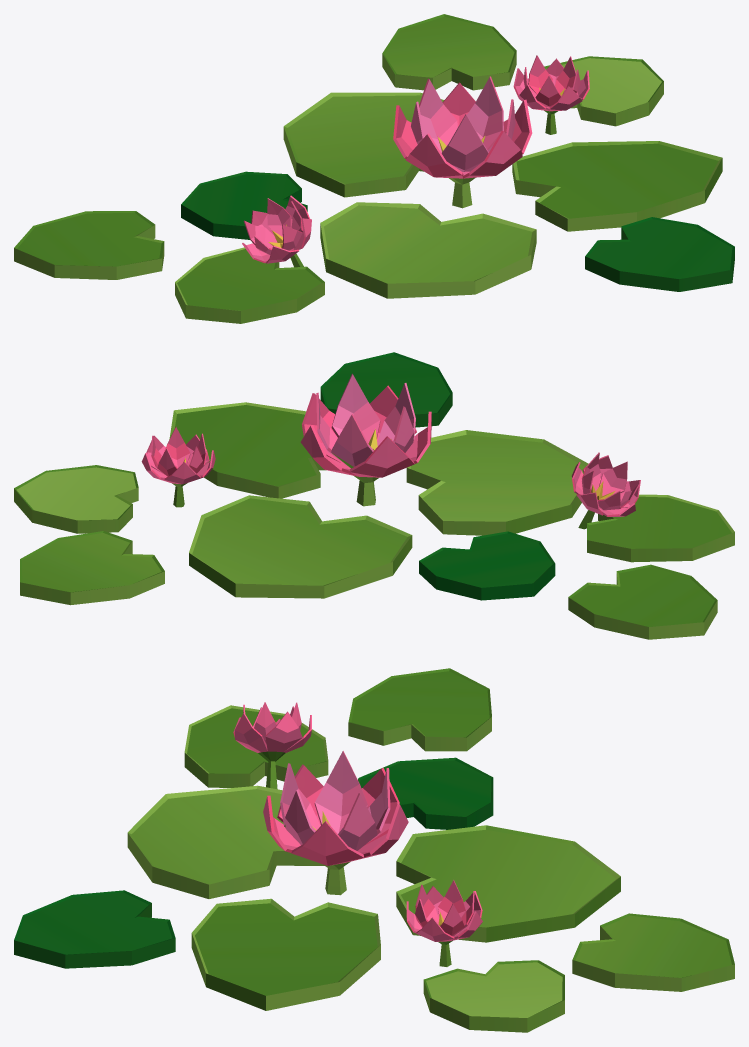
The model's file is liriosR.obj.
3 views of the same model, one above another, from view 1: azimuth 30°, elevation 25°; view 2: azimuth 150°, elevation 25°; view 3: azimuth 270°, elevation 25° (orthographic). The views are drawn at different scales.
Parts seen in each view (by area): view 1: polySurface15; view 2: polySurface15; view 3: polySurface15.
Part boxes in pixels (<box>): polySurface15: <box>14,14,734,323</box>; polySurface15: <box>14,352,734,639</box>; polySurface15: <box>14,668,734,1032</box>.
Bounding box in the file's own units: 4.99 × 0.7861 × 4.34.
Materials: 4 (3 with a texture image).
